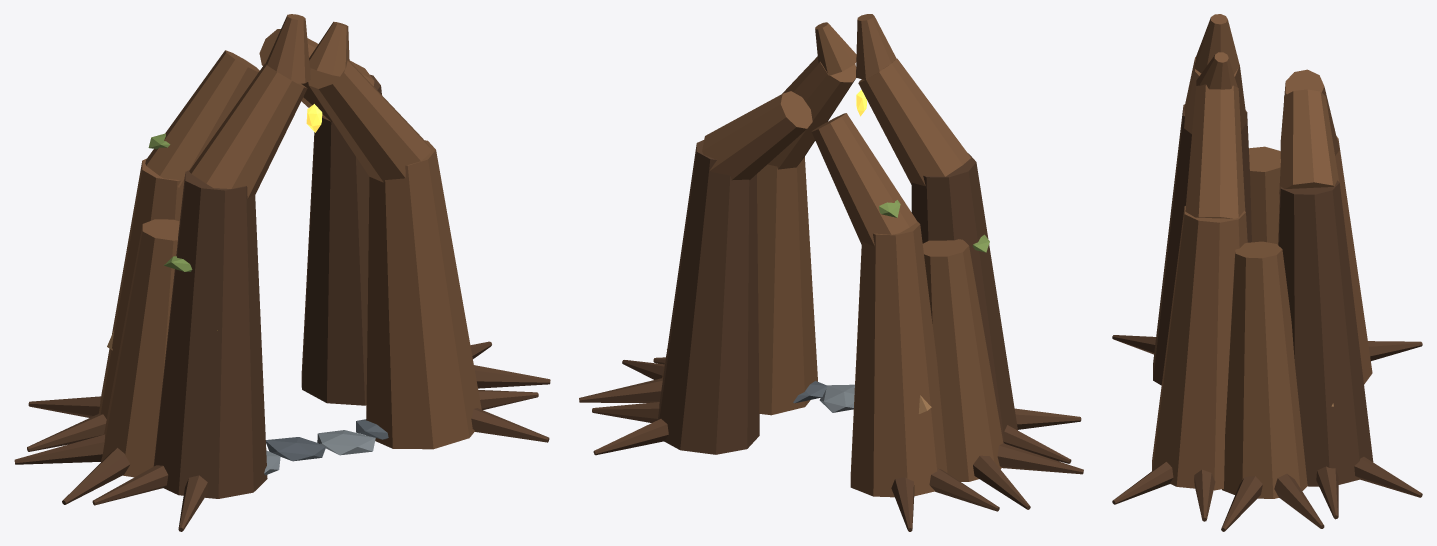
File: mesh_hollow_lantern_shrine_a.glb
3 views of the same model, side by side, from view 1: azimuth 30°, elevation 25°; view 2: azimuth 150°, elevation 25°; view 3: azimuth 270°, elevation 25° (orthographic). The views are drawn at different scales.
Visible parts, largest first — view 1: mesh_hollow_lantern_shrine_a__bark_mid, mesh_hollow_lantern_shrine_a__bark_dark, mesh_hollow_lantern_shrine_a__stone_dark, mesh_hollow_lantern_shrine_a__stone; view 2: mesh_hollow_lantern_shrine_a__bark_mid, mesh_hollow_lantern_shrine_a__bark_dark, mesh_hollow_lantern_shrine_a__stone; view 3: mesh_hollow_lantern_shrine_a__bark_mid, mesh_hollow_lantern_shrine_a__bark_dark.
Boxes of the visible parts, <box> form: mesh_hollow_lantern_shrine_a__bark_mid: <box>98,14,481,477</box>; mesh_hollow_lantern_shrine_a__bark_dark: <box>14,74,550,531</box>; mesh_hollow_lantern_shrine_a__stone_dark: <box>266,419,388,461</box>; mesh_hollow_lantern_shrine_a__stone: <box>264,430,375,475</box>; mesh_hollow_lantern_shrine_a__bark_mid: <box>659,14,1003,497</box>; mesh_hollow_lantern_shrine_a__bark_dark: <box>579,140,1083,531</box>; mesh_hollow_lantern_shrine_a__stone: <box>819,384,854,412</box>; mesh_hollow_lantern_shrine_a__bark_mid: <box>1152,14,1372,498</box>; mesh_hollow_lantern_shrine_a__bark_dark: <box>1112,104,1422,531</box>.
Size of the model in its own units: 27.08 by 23.06 by 16.1.
